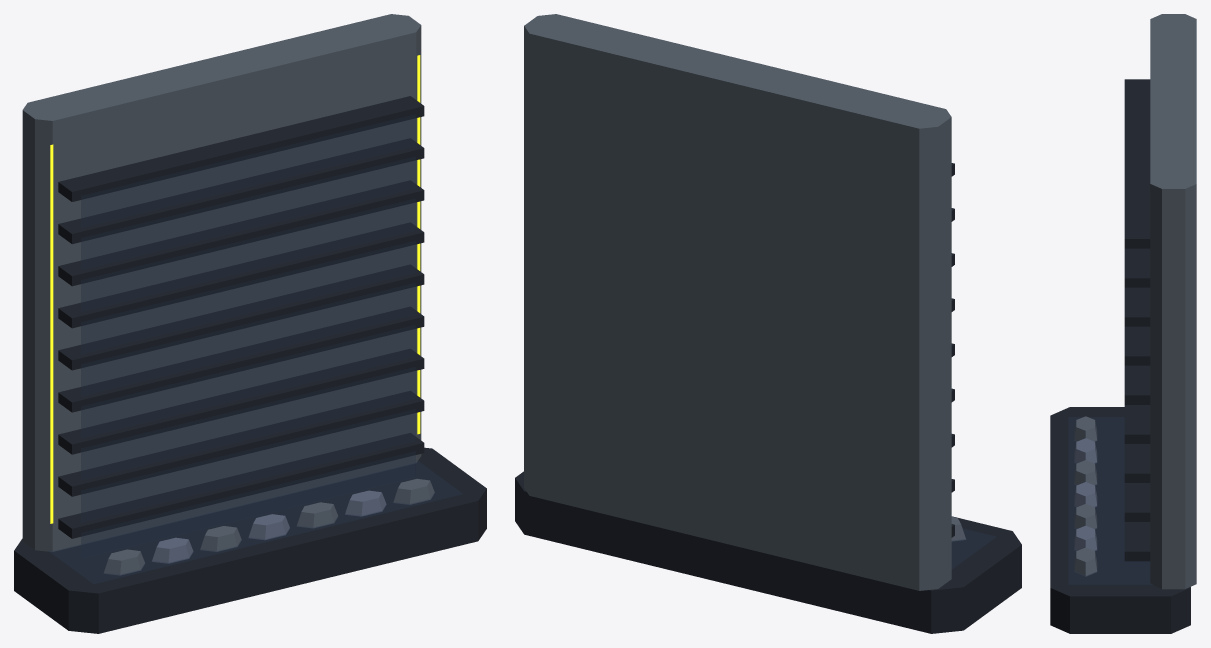
The model's file is res_zen_water_wall.glb.
3 renders of one model, left to right at view 1: azimuth 30°, elevation 25°; view 2: azimuth 150°, elevation 25°; view 3: azimuth 270°, elevation 25°, orthographic. The views are drawn at different scales.
Visible parts, largest first — view 1: cascade_ledge, architectural_stone, basin_water, river_pebble, concealed_edge_light, river_pebble.001; view 2: architectural_stone, cascade_ledge, basin_water; view 3: cascade_ledge, architectural_stone, basin_water, river_pebble, river_pebble.001.
Boxes of the visible parts, x1,y1,x2,y2 form: cascade_ledge: (14,96,486,633); architectural_stone: (22,14,421,551); basin_water: (48,114,462,583); river_pebble: (104,478,434,575); concealed_edge_light: (50,55,420,523); river_pebble.001: (152,490,386,563); architectural_stone: (524,14,951,590); cascade_ledge: (515,163,1021,633); basin_water: (952,528,996,568); cascade_ledge: (1050,79,1190,633); architectural_stone: (1150,14,1196,589); basin_water: (1068,417,1152,584); river_pebble: (1074,416,1097,576); river_pebble.001: (1074,438,1097,550).
Size of the model in its own units: 2.6 by 2.8 by 0.85.
